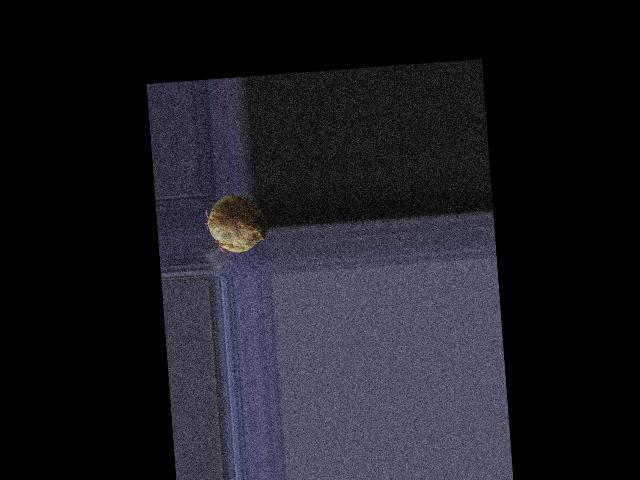beet: (203, 193, 269, 255)
